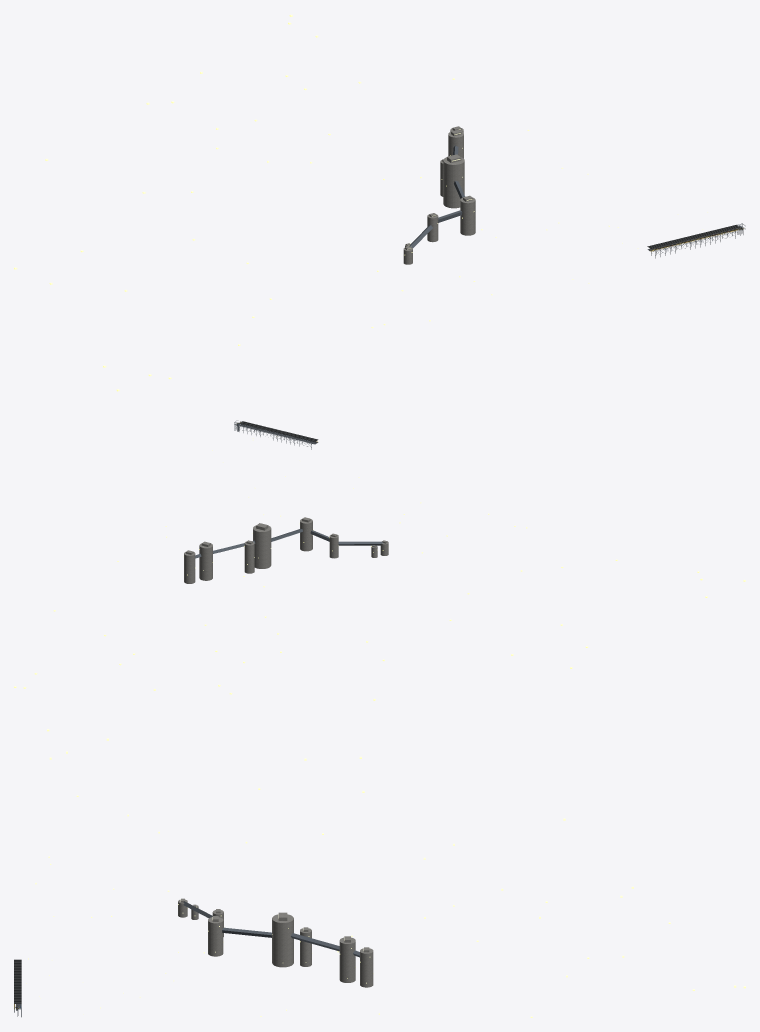
Rendered from conveyor.glb.
3 renders of one model, top to bottom at view 1: azimuth 30°, elevation 25°; view 2: azimuth 150°, elevation 25°; view 3: azimuth 270°, elevation 25°, orthographic. The views are drawn at different scales.
Parts seen in each view (by area): view 1: BG_silos; view 2: BG_silos, BG_galleries; view 3: BG_silos, BG_galleries.
Boxes of the visible parts, bbox=[...] form: BG_silos: bbox=[403, 126, 475, 264]; BG_silos: bbox=[184, 517, 388, 583]; BG_galleries: bbox=[195, 529, 383, 558]; BG_silos: bbox=[178, 898, 373, 987]; BG_galleries: bbox=[183, 901, 359, 957].
Size of what is drawn, in the model's own units: 729 by 53.2 by 739.
Materials: 23 (6 with a texture image).
